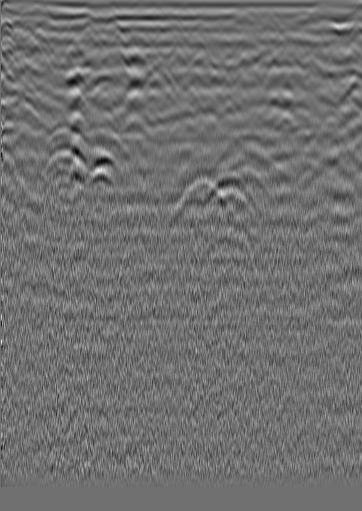가스: (86, 147, 122, 186)
상수: (313, 26, 333, 46)
오수: (35, 35, 55, 55)
우수: (192, 41, 212, 61)
